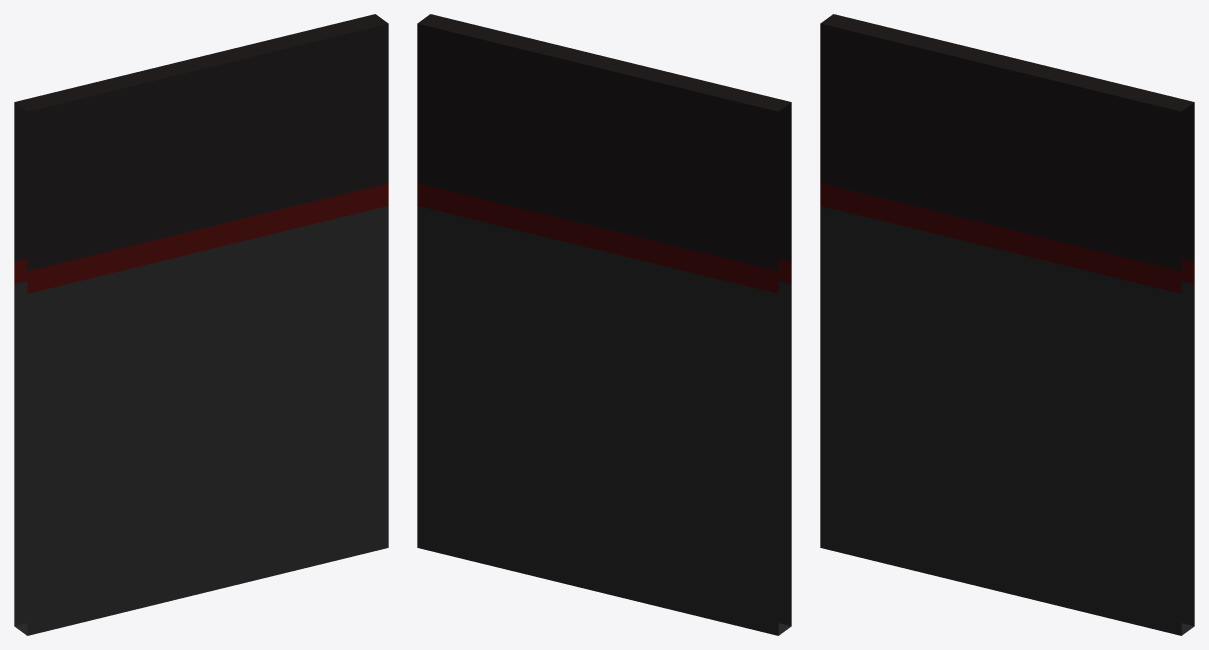
The model's file is SM_wall_stc_04.fbx.
3 renders of one model, left to right at view 1: azimuth 30°, elevation 25°; view 2: azimuth 150°, elevation 25°; view 3: azimuth 330°, elevation 25°, orthographic.
Parts seen in each view (by area): view 1: wall_stc_04; view 2: wall_stc_04; view 3: wall_stc_04.
Boxes of the visible parts, x1,y1,x2,y2 form: wall_stc_04: (14, 14, 388, 635); wall_stc_04: (417, 14, 791, 635); wall_stc_04: (820, 14, 1194, 635).
Size of the model in its own units: 380 by 526 by 24.
